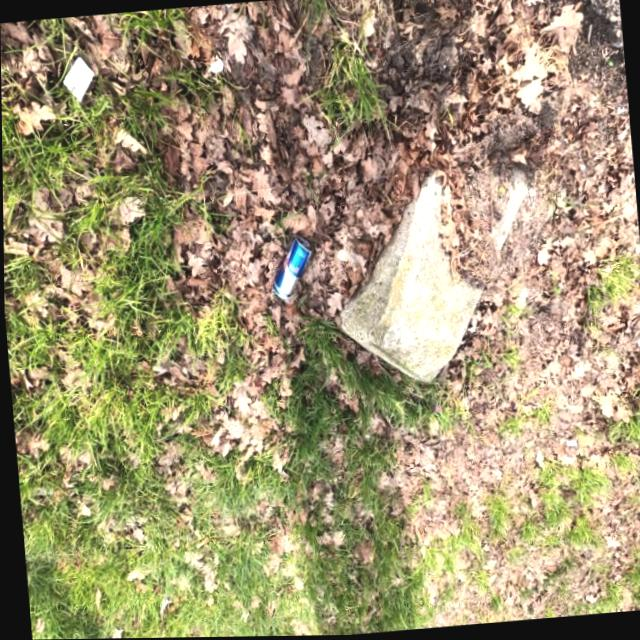Can-Metal: (265, 232, 317, 301)
